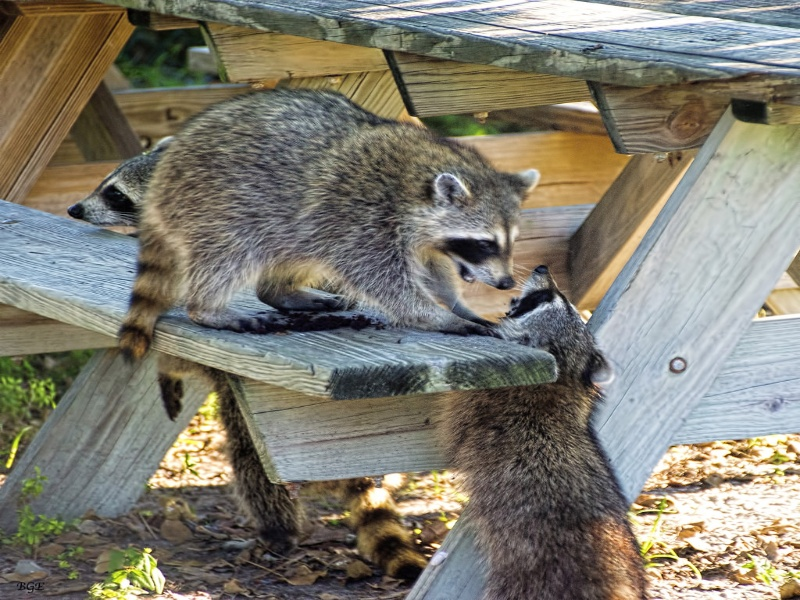raccoon: (107, 84, 543, 355), (426, 260, 657, 594), (63, 130, 204, 236)
